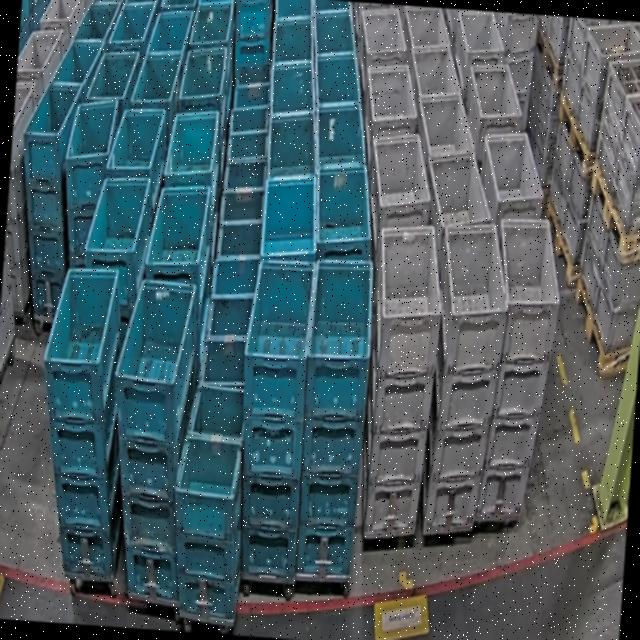4G: (418, 218, 514, 534), (357, 221, 448, 538), (474, 214, 566, 525)
B4: (27, 262, 140, 578), (98, 274, 204, 602), (227, 255, 316, 580), (291, 254, 377, 580), (11, 79, 83, 324), (56, 94, 121, 273)
B8: (164, 380, 253, 622)
